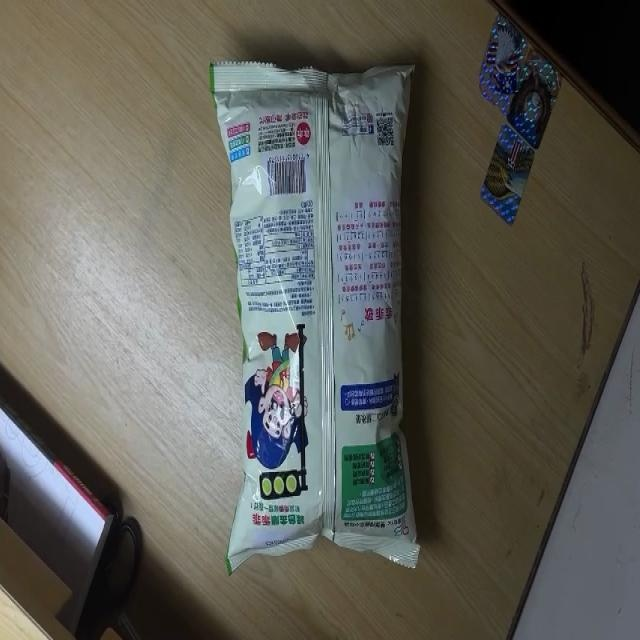Good-Luck: (208, 62, 421, 575)
